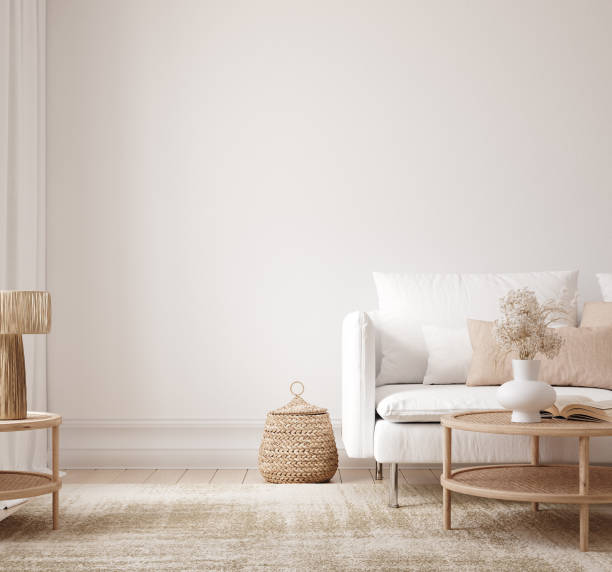flower vase: (485, 285, 566, 423)
side table: (0, 413, 66, 534)
sofa: (339, 265, 612, 484)
table: (437, 404, 612, 554)
table lamp: (0, 284, 55, 420)
